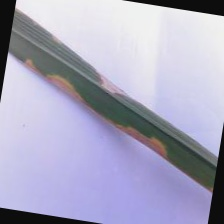Leaf_Blast: (15, 55, 94, 108), (107, 113, 180, 159), (92, 61, 150, 104)
